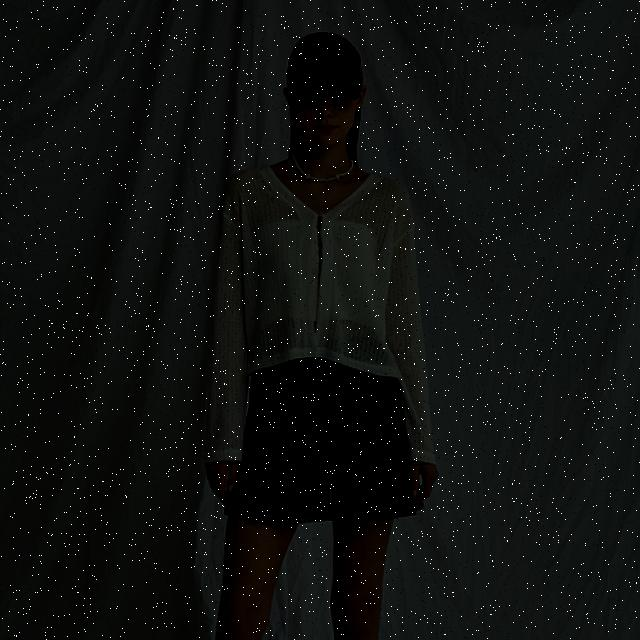dress: (200, 156, 437, 468), (240, 355, 416, 516)
